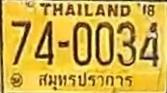0: (72, 21, 91, 65), (95, 21, 113, 65)
3: (116, 20, 135, 66)
4: (138, 21, 158, 66), (34, 20, 53, 64)
7: (10, 20, 30, 64)
SPK: (36, 69, 132, 92)
